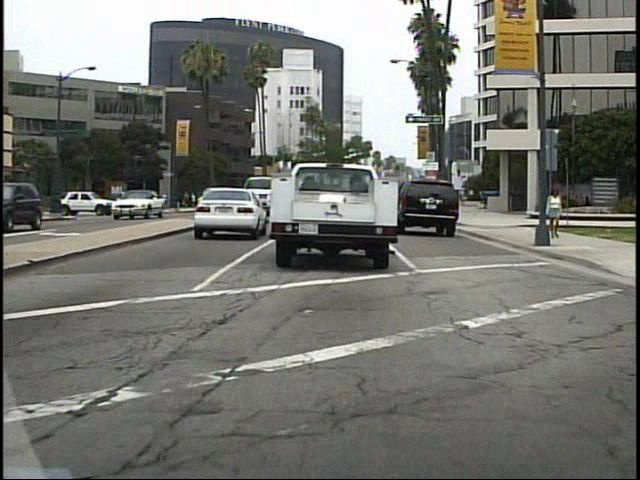person: (546, 181, 567, 244), (120, 182, 135, 215), (121, 190, 122, 216)
